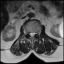CCS_normal: (31, 29, 33, 39)
LFS_stenosis: (35, 30, 37, 36)
LLS_normal: (33, 29, 35, 37)
RFS_stenosis: (27, 30, 29, 36)
RLS_normal: (29, 30, 31, 37)
